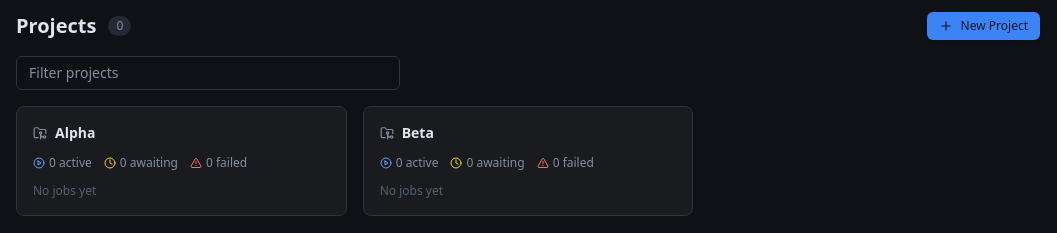
Test: ProjectsOverview › filters cards by a partial, case-insensitive name match
Expected: the text "Alpha" is shown, [55,123,96,143]
Expected: the text "Beta" is shown, [402,123,434,143]
In the field labelled "Filter projects": (208, 73) [16,56,400,90], type "alp"
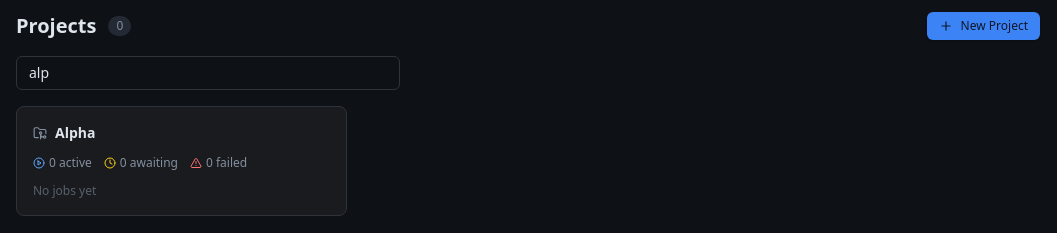
Expected: the text "Alpha" is shown, [55,123,96,143]
Now the button "Beta" is gone
